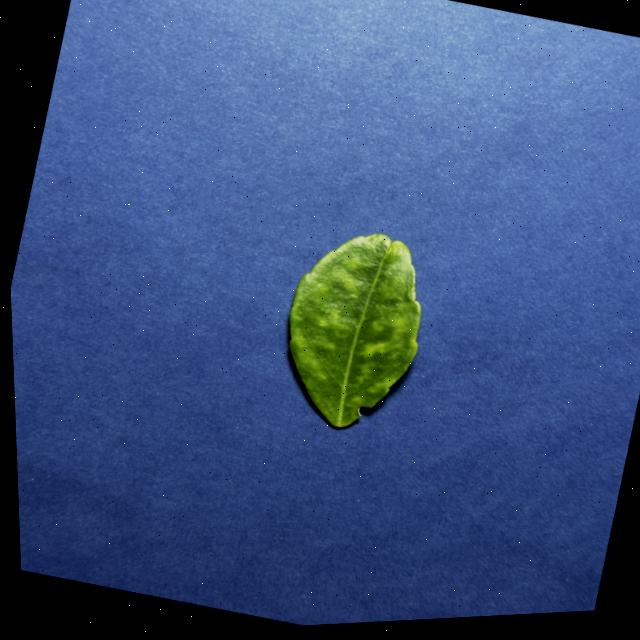greening: (289, 233, 419, 426)
